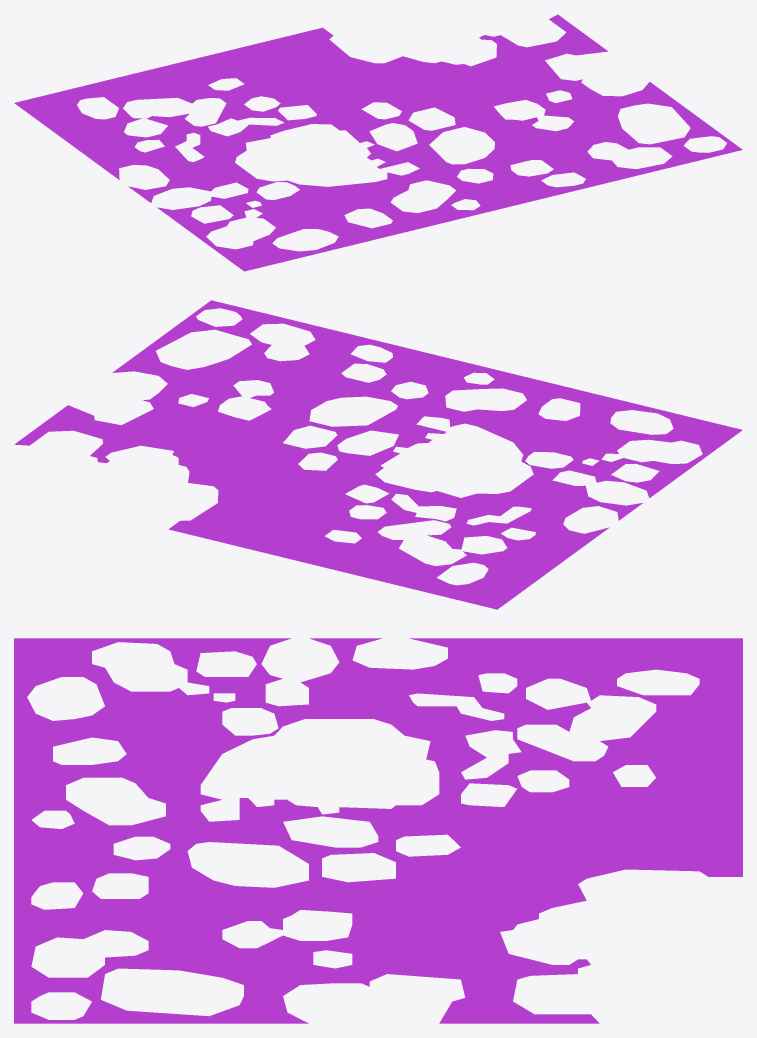
Rendered from navMesh1.glb.
3 views of the same model, one above another, from view 1: azimuth 30°, elevation 25°; view 2: azimuth 150°, elevation 25°; view 3: azimuth 270°, elevation 25° (orthographic). The views are drawn at different scales.
Parts seen in each view (by area): view 1: Navmesh; view 2: Navmesh; view 3: Navmesh.
Part boxes in pixels (x1,y1,x2,y2): Navmesh: [14, 14, 742, 271]; Navmesh: [14, 300, 742, 609]; Navmesh: [14, 638, 742, 1023].
Bounding box in the file's own units: 63 × 0 × 50.4.
